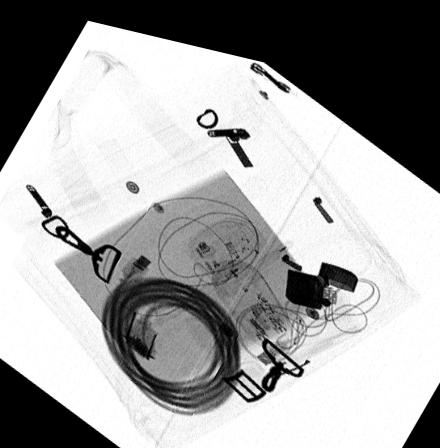Lighter: (284, 245, 358, 295)
